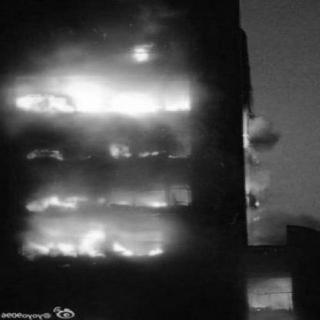Fire: (15, 28, 189, 265), (234, 110, 258, 207)
